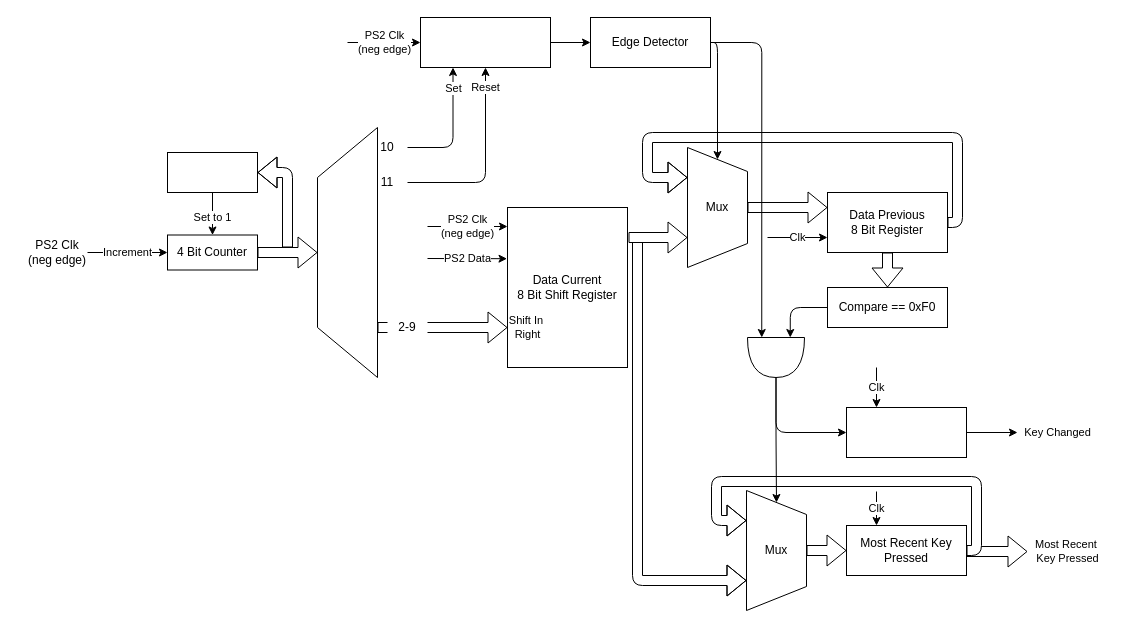
Image size: 1133x628. Some labels were removed from this diagram. Here are the shapes that lost their labels. From the top down, the box of each, then its label:
(420, 16, 550, 68): Packet Received Flag 1 Bit Flip Flop
(166, 152, 258, 192): Compare == 11
(316, 126, 378, 378): Selector
(846, 406, 966, 458): Key Changed 1 Bit Flip Flop
